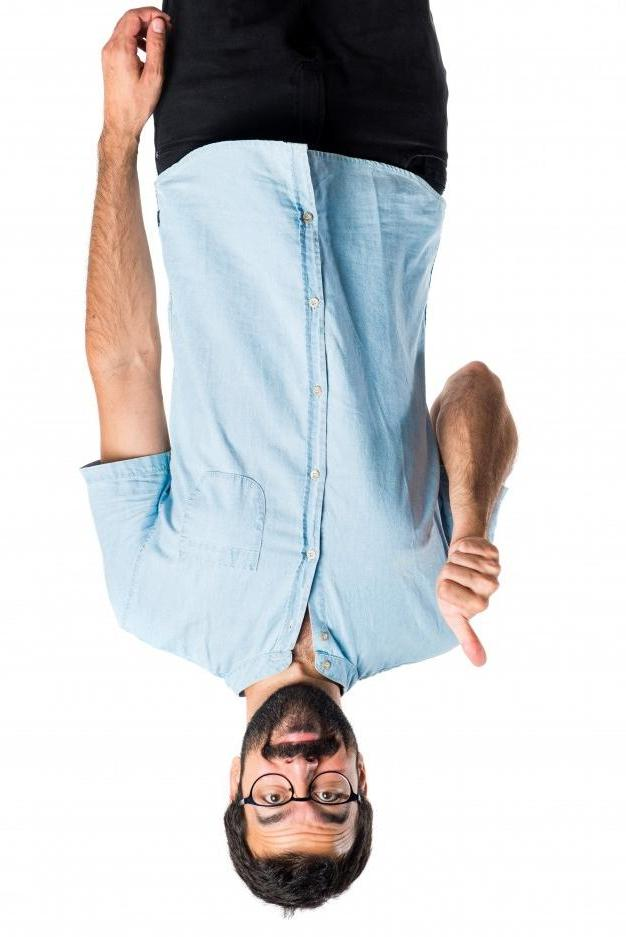thumbsdown: (437, 540, 500, 667)
